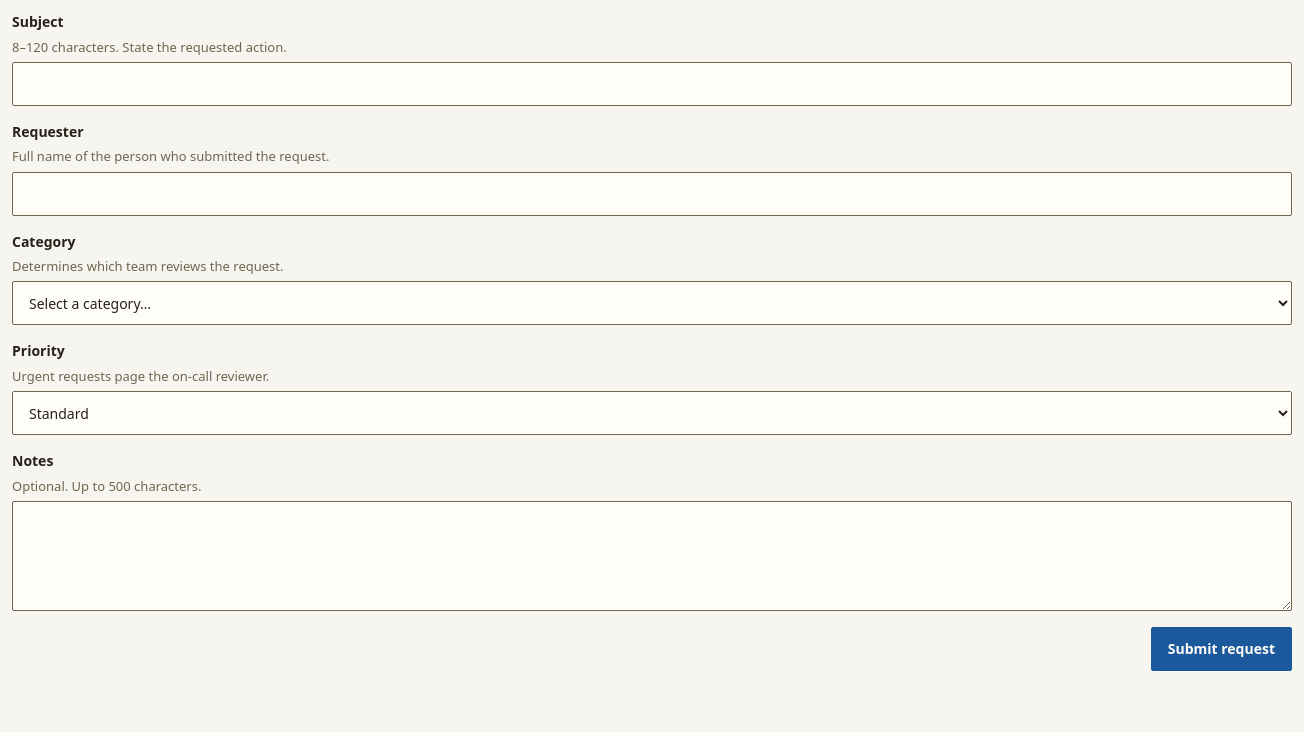
Test: RequestForm › validates on blur and clears the error when the value is corrected
Step 1. Type "No" into the field labelled "Subject" → (652, 84), box [12,62,1292,106]
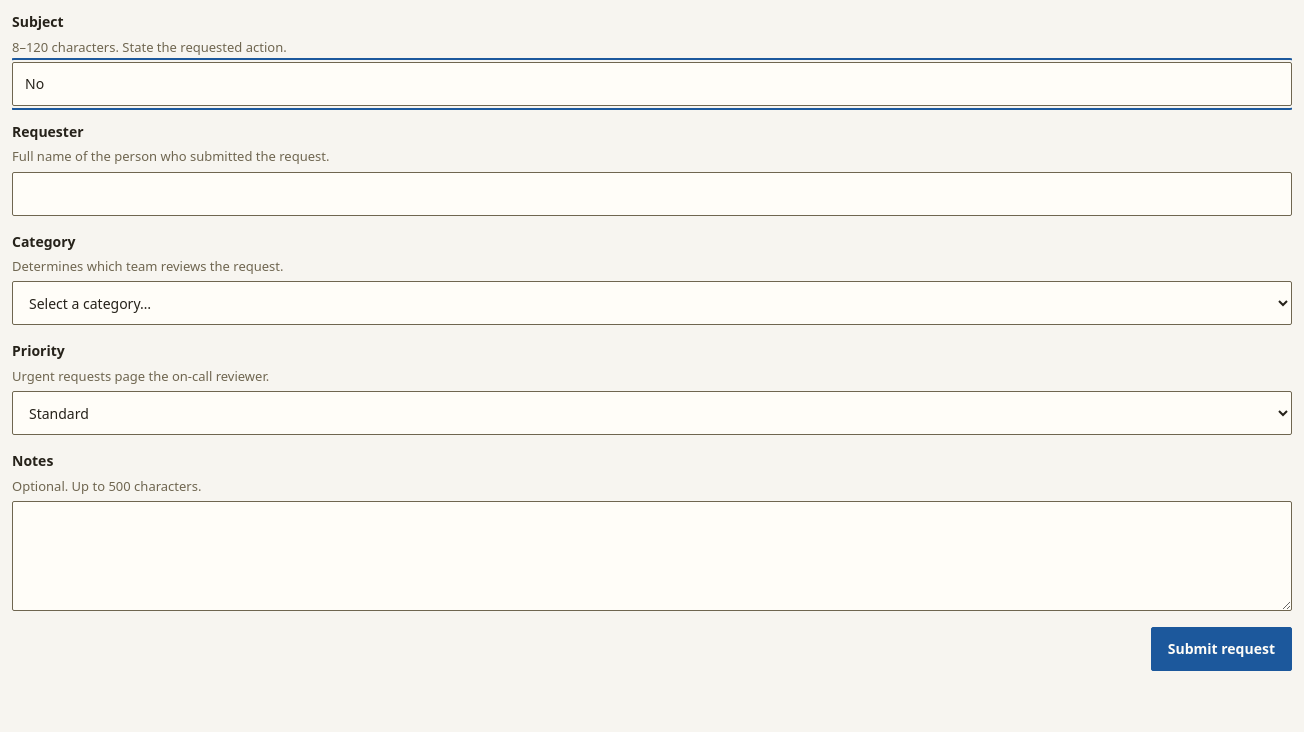
Step 2. Press Tab
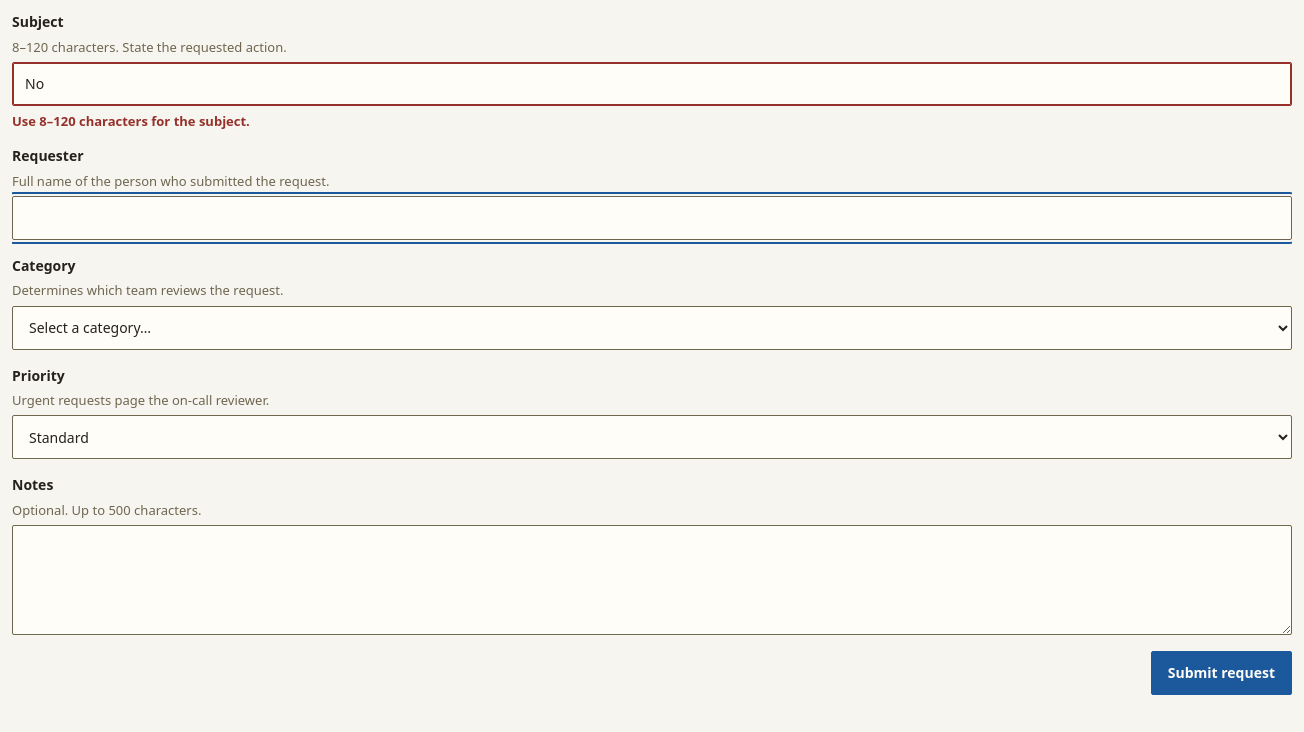
Result: the text "Use 8–120 characters for the subject." is shown at [12,112,250,130]
Step 3. Type "w refund the duplicate charge" into the field labelled "Subject" → (652, 84), box [12,62,1292,106]
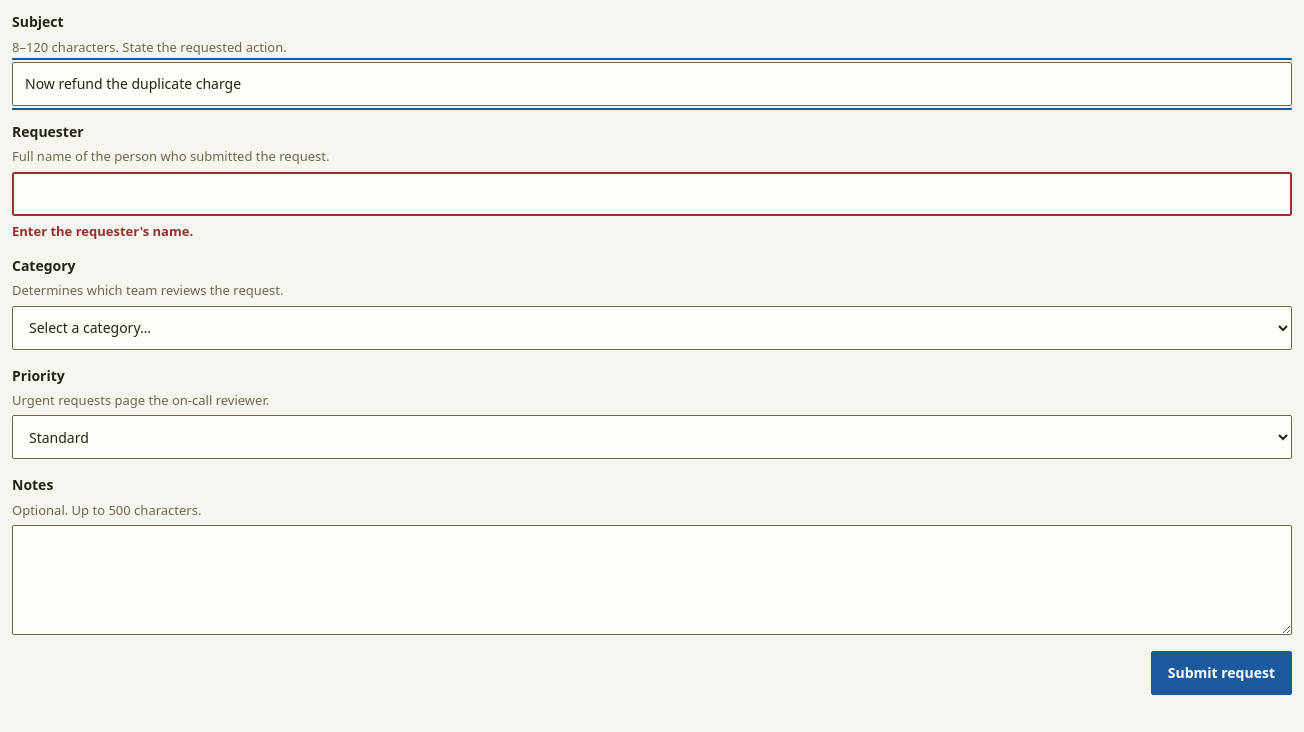
Result: the text "Use 8–120 characters for the subject." is gone
